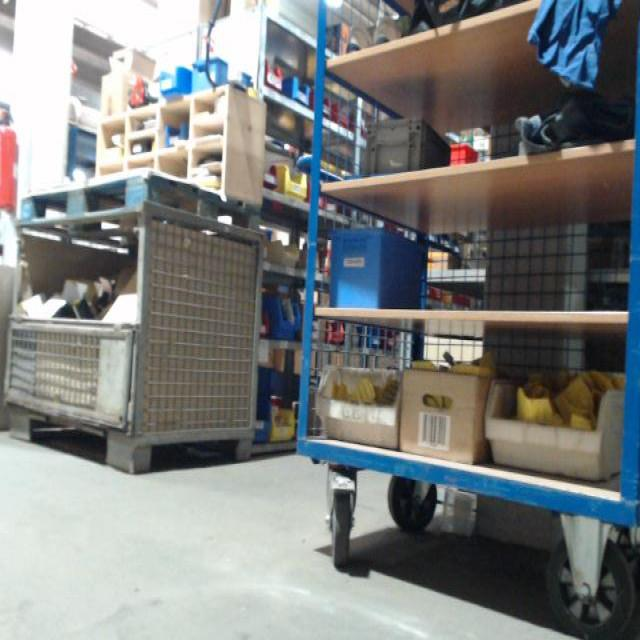small_load_carrier: (322, 222, 422, 310), (358, 120, 450, 178)
stillage: (1, 206, 271, 496)
